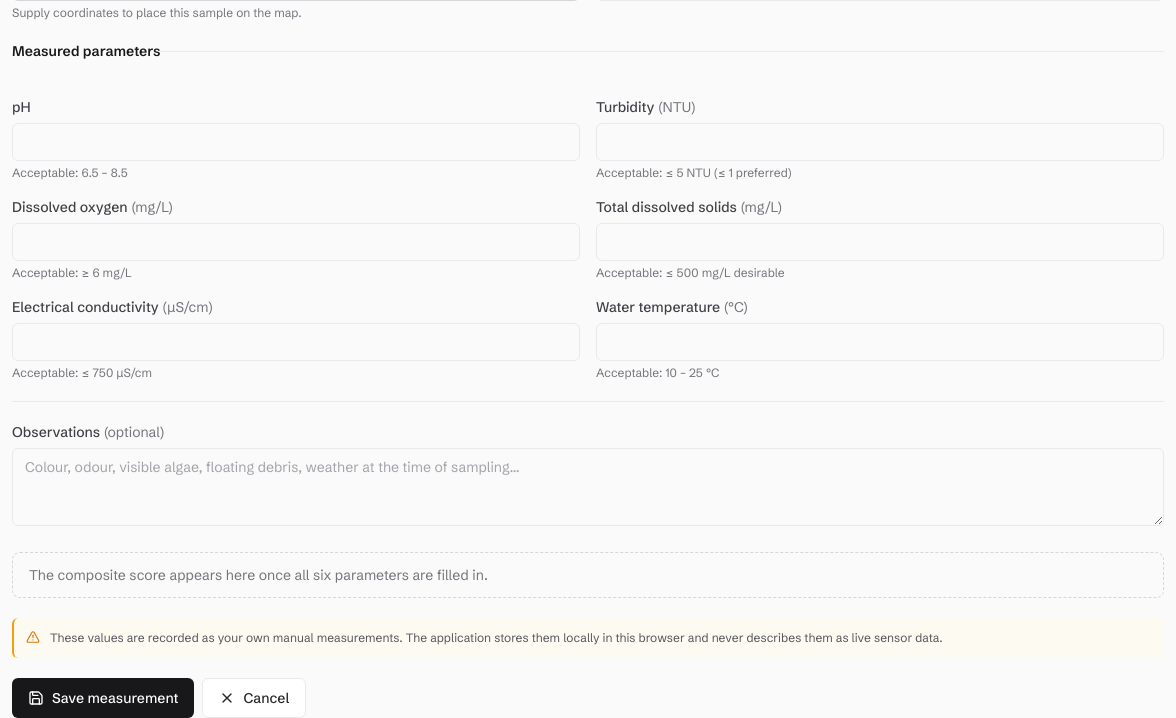
Test: validation › blocks submission and flags every empty required field
(page scrolled)
Click the button "Save measurement" at (103, 698), box [12, 678, 194, 717]
(page scrolled)
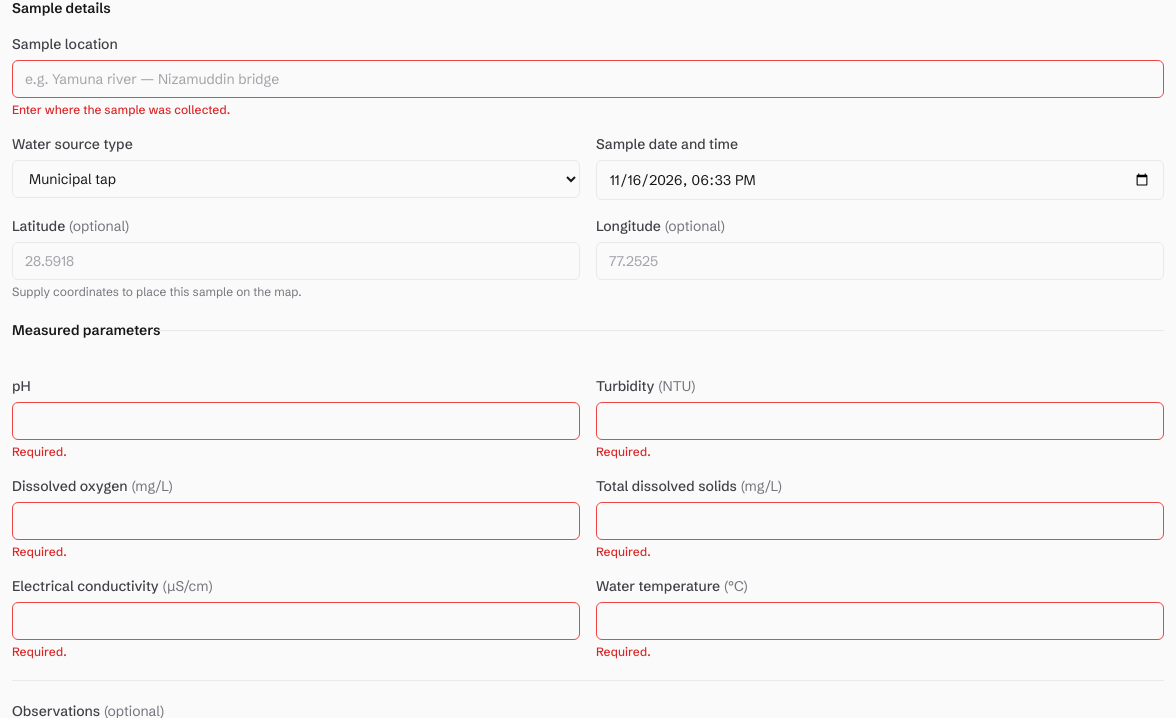
Now the text "Enter where the sample was collected." is shown, box [12, 102, 230, 117]
Now the text "Required." is shown 6 times, box [12, 444, 67, 459]; [596, 444, 651, 459]; [12, 544, 67, 559]; [596, 544, 651, 559]; [12, 644, 67, 659]; [596, 644, 651, 659]
